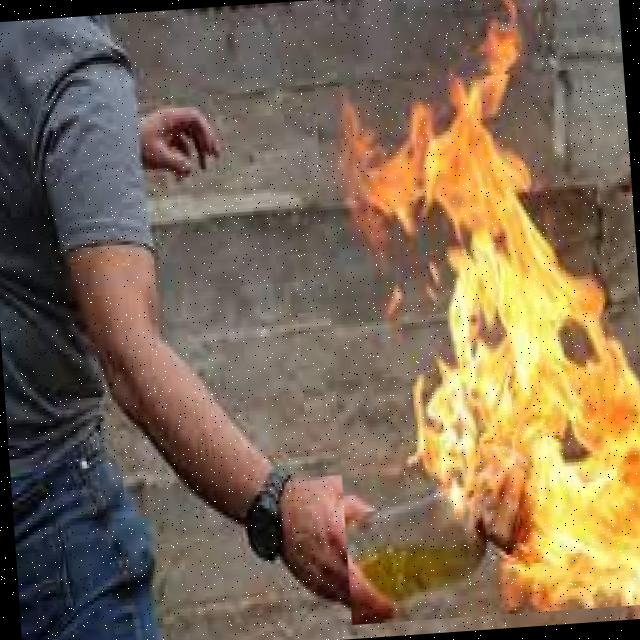fire: (314, 65, 640, 624)
